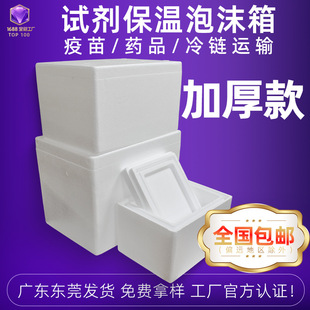Boxes: (35, 59, 231, 282)
